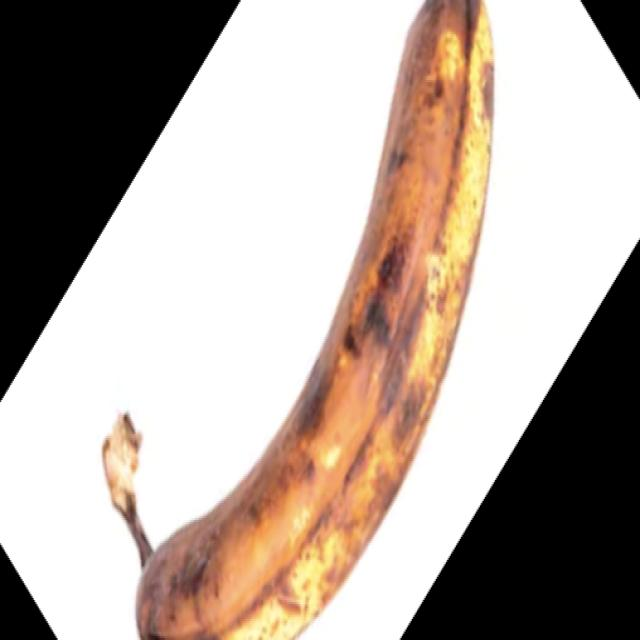overripe: (100, 0, 497, 640)
